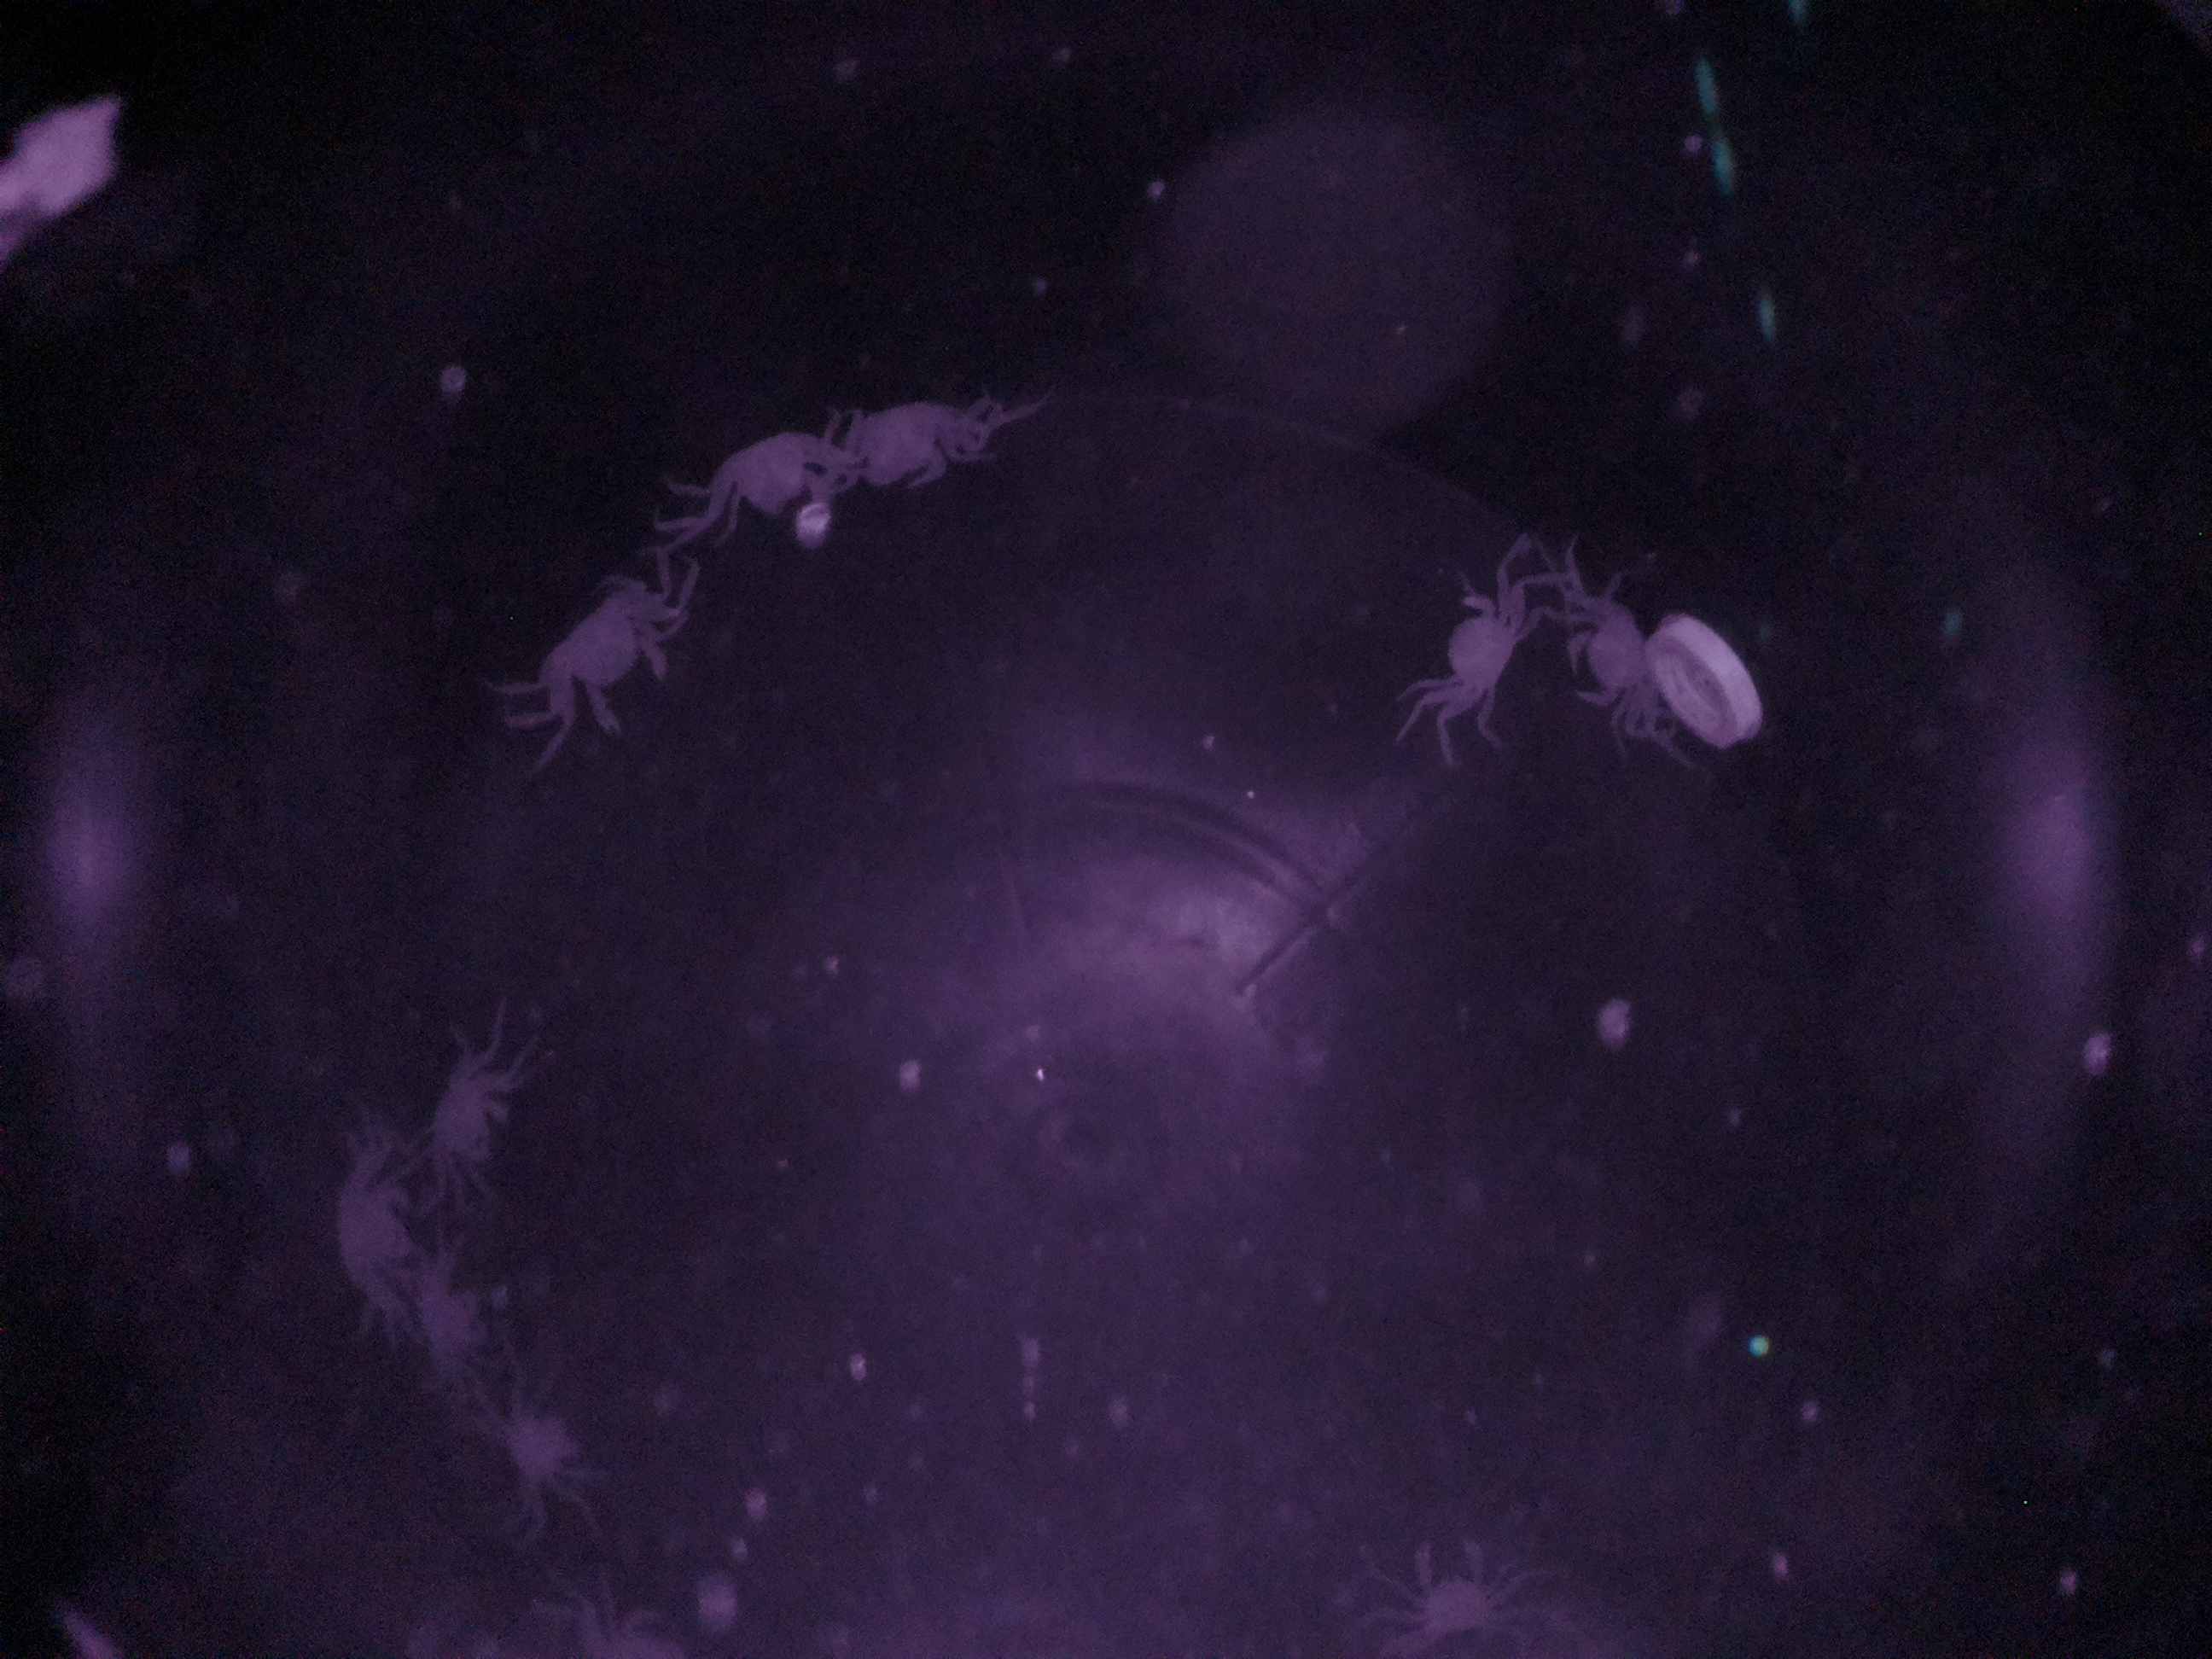Crab: (1540, 533, 1714, 753), (1399, 544, 1554, 744), (411, 1009, 547, 1206), (540, 566, 693, 735)
